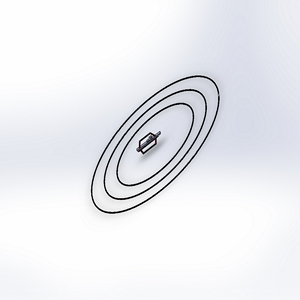circle: (90, 65, 226, 229)
submarine: (133, 128, 162, 157)
